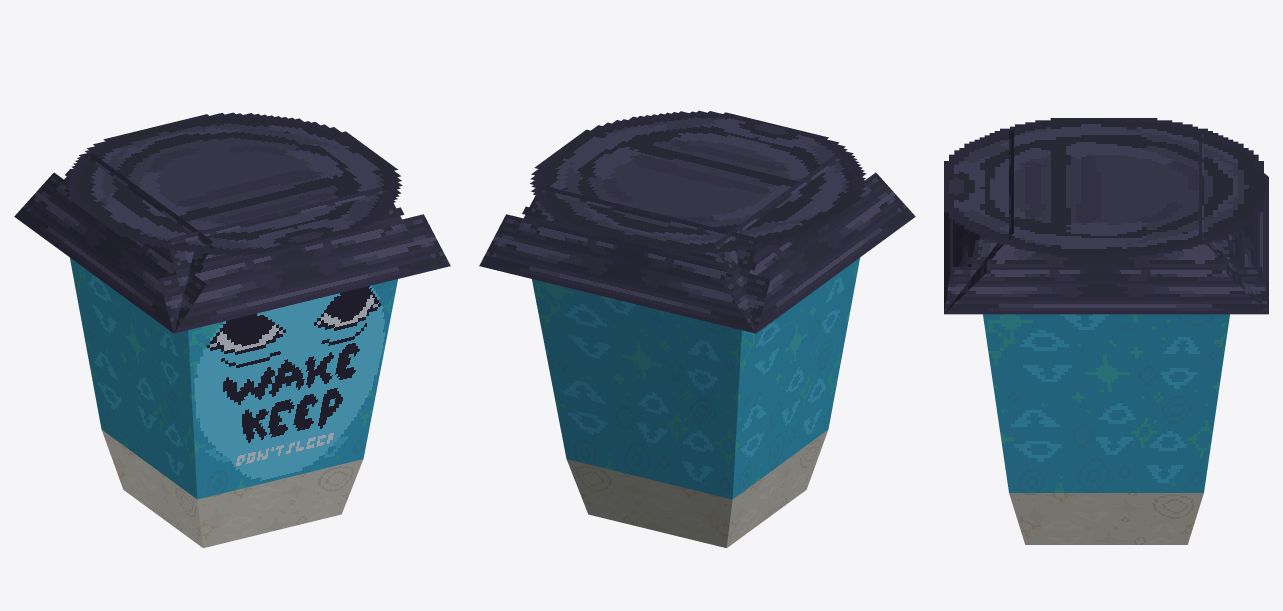
Rendered from MUS-COFFEE.gltf.
The picture shows the model from 3 angles, left to right: view 1: azimuth 30°, elevation 25°; view 2: azimuth 150°, elevation 25°; view 3: azimuth 270°, elevation 25°; orthographic projection.
Size of the model in its own units: 5 by 8.5 by 5.
Materials: 4 (4 with a texture image).
